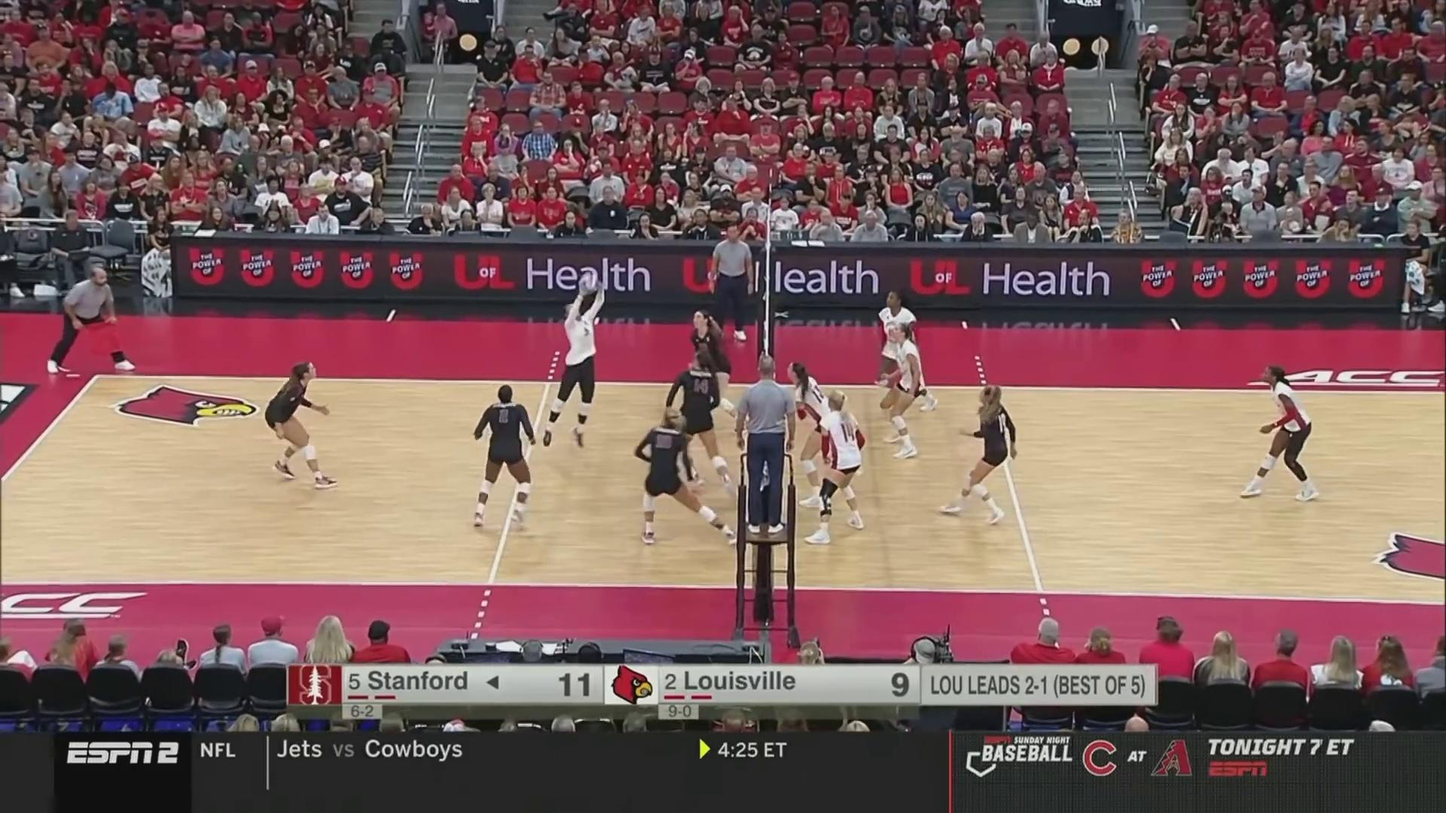player: (636, 413, 733, 545), (789, 361, 862, 504), (944, 388, 1021, 522), (1243, 369, 1320, 502), (667, 353, 736, 497), (546, 283, 606, 444), (804, 391, 866, 545), (473, 386, 537, 528), (268, 362, 338, 485), (873, 291, 938, 411), (683, 309, 746, 430), (886, 323, 925, 458)
refree: (738, 355, 797, 532), (51, 268, 131, 376), (710, 224, 755, 341)
